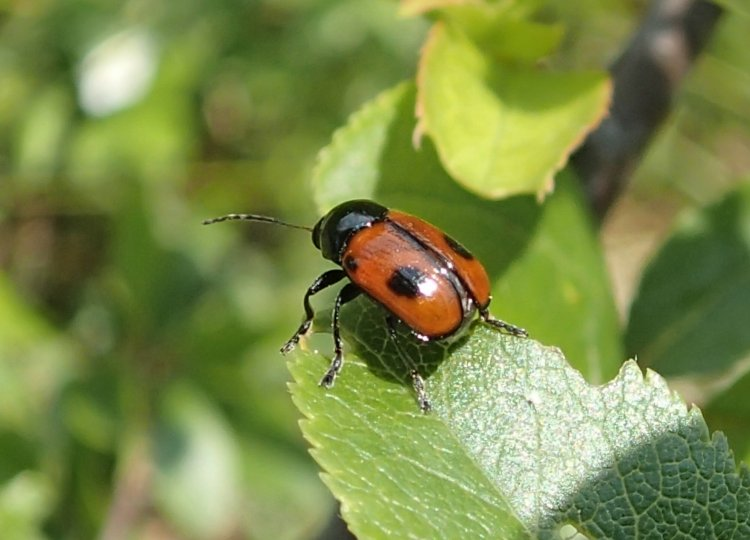Cryptocephalus_bipunctatus: (193, 193, 532, 414)
